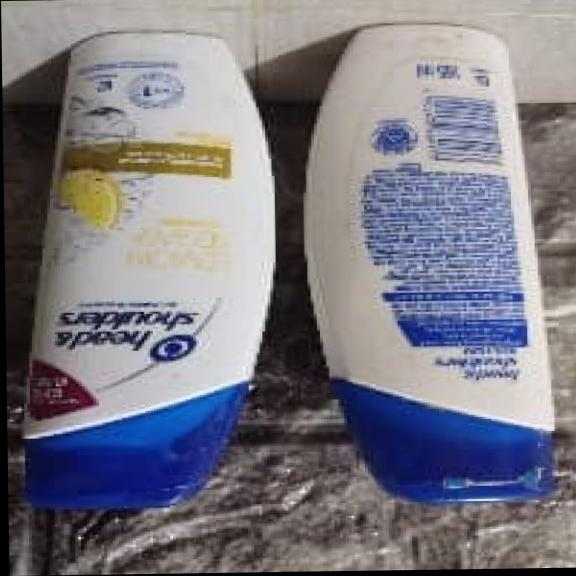Plastik: (21, 13, 549, 507)
